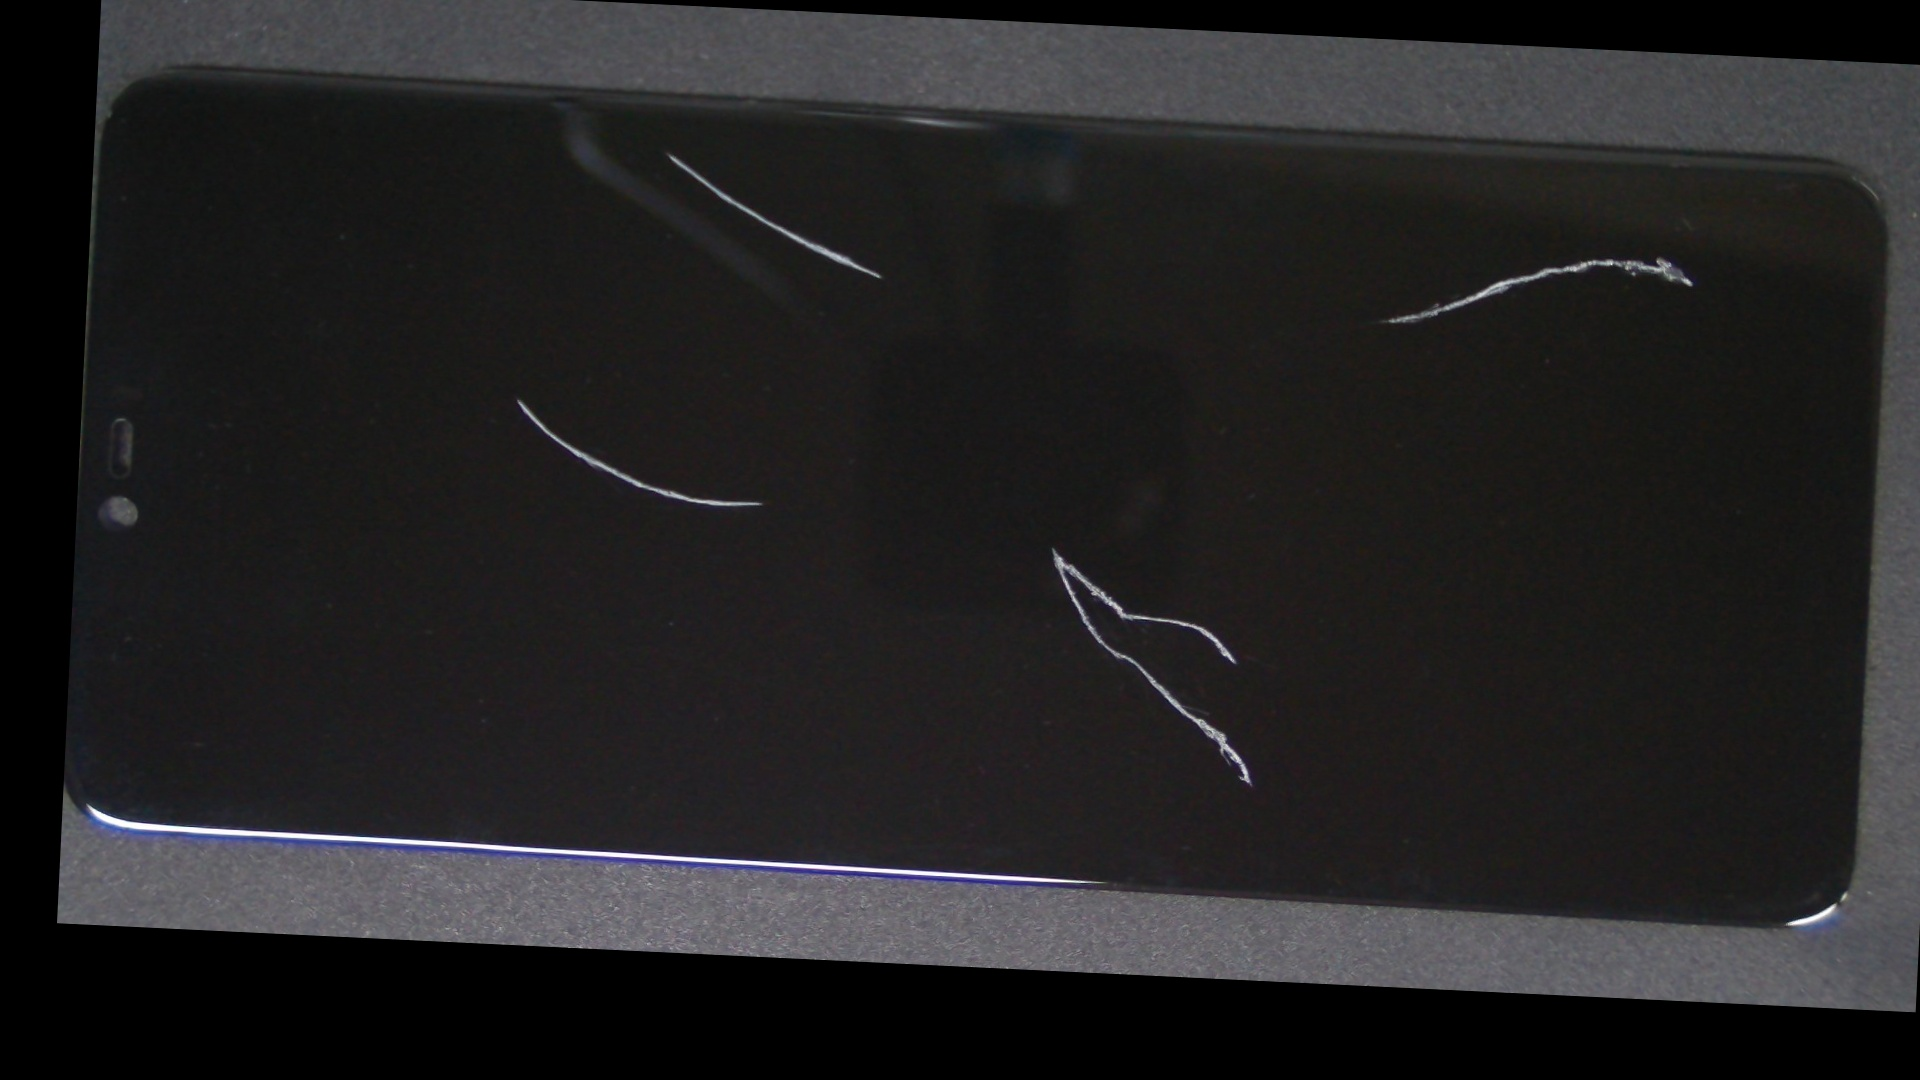oil: (553, 261, 1551, 831), (870, 116, 1920, 371), (291, 187, 746, 607), (377, 63, 955, 237)
